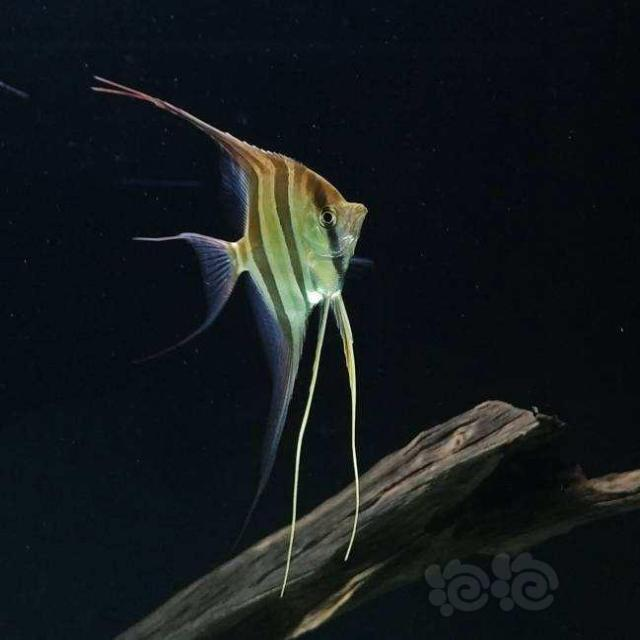AngelFish: (92, 76, 367, 564)
